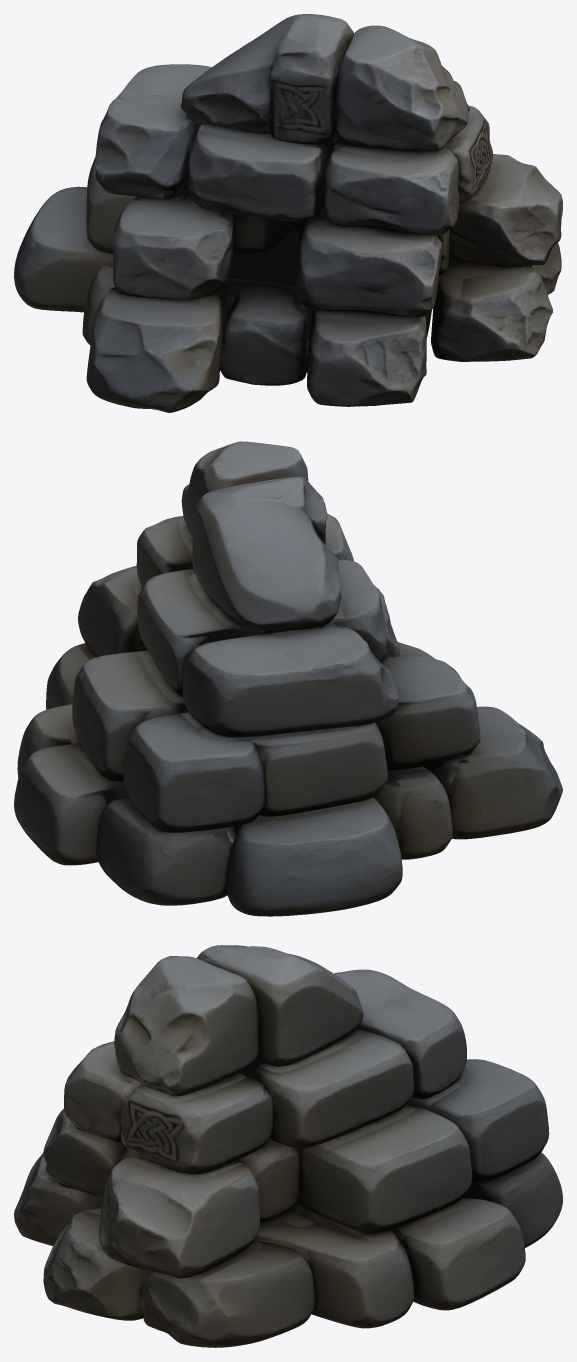
Rendered from broken_masonry_1024.glb.
The picture shows the model from 3 angles, top to bottom: view 1: azimuth 30°, elevation 25°; view 2: azimuth 150°, elevation 25°; view 3: azimuth 270°, elevation 25°; orthographic projection. The views are drawn at different scales.
Visible parts, largest first — view 1: node_0; view 2: node_0; view 3: node_0.
Boxes of the visible parts, box(x1,y1,x2,y2) form: node_0: box(14, 14, 562, 412); node_0: box(14, 441, 562, 916); node_0: box(14, 945, 562, 1347).
Size of the model in its own units: 1.01 by 0.5829 by 0.9964.
1 material, 1 textured.
